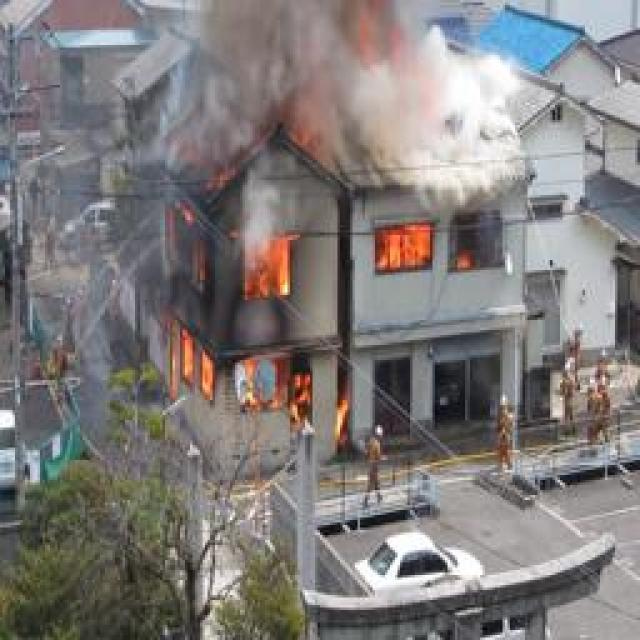Fire: (156, 197, 315, 431), (363, 230, 480, 275)
